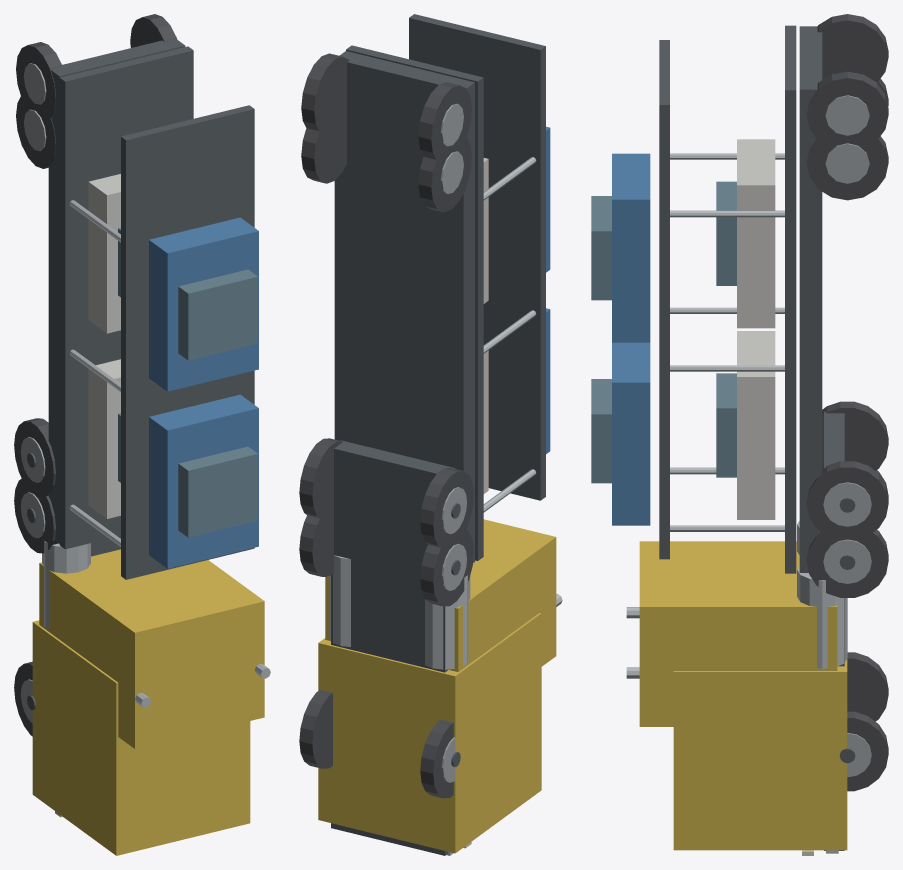
File: semi_car_carrier.glb
3 views of the same model, side by side, from view 1: azimuth 30°, elevation 25°; view 2: azimuth 150°, elevation 25°; view 3: azimuth 270°, elevation 25° (orthographic). The views are drawn at different scales.
Parts seen in each view (by area): view 1: 0007_Sleeper_pod, 0001_Tractor_cab, 0032_Carrier_upper, 0031_Carrier_lower, 0045_Car_cargo_body, 0043_Car_cargo_body, 0046_Car_cargo_glass, 0044_Car_cargo_glass, 0030_Trailer_chassis, 0041_Car_cargo_body, 0039_Car_cargo_body, 0051_Trailer_tire (+10 smaller); view 2: 0030_Trailer_chassis, 0001_Tractor_cab, 0032_Carrier_upper, 0000_Tractor_frame, 0007_Sleeper_pod, 0031_Carrier_lower, 0053_Trailer_tire, 0049_Trailer_tire, 0024_Wheel_tire, 0008_Fuel_tank, 0051_Trailer_tire, 0027_Wheel_tire (+14 smaller); view 3: 0001_Tractor_cab, 0007_Sleeper_pod, 0030_Trailer_chassis, 0045_Car_cargo_body, 0041_Car_cargo_body, 0043_Car_cargo_body, 0039_Car_cargo_body, 0031_Carrier_lower, 0032_Carrier_upper, 0051_Trailer_tire, 0049_Trailer_tire, 0021_Wheel_tire (+19 smaller).
Boxes of the visible parts, x1,y1,x2,y2 form: 0007_Sleeper_pod: [39, 549, 264, 748]; 0001_Tractor_cab: [32, 620, 250, 855]; 0032_Carrier_upper: [121, 105, 254, 579]; 0031_Carrier_lower: [59, 46, 193, 549]; 0045_Car_cargo_body: [149, 217, 258, 391]; 0043_Car_cargo_body: [149, 394, 258, 568]; 0046_Car_cargo_glass: [178, 269, 257, 360]; 0044_Car_cargo_glass: [178, 446, 257, 537]; 0030_Trailer_chassis: [48, 39, 185, 543]; 0041_Car_cargo_body: [88, 174, 120, 333]; 0039_Car_cargo_body: [88, 359, 120, 518]; 0051_Trailer_tire: [16, 42, 62, 122]; 0030_Trailer_chassis: [334, 51, 474, 562]; 0001_Tractor_cab: [318, 613, 541, 853]; 0032_Carrier_upper: [409, 14, 545, 500]; 0000_Tractor_frame: [331, 440, 455, 855]; 0007_Sleeper_pod: [325, 519, 556, 671]; 0031_Carrier_lower: [346, 45, 483, 560]; 0053_Trailer_tire: [301, 53, 349, 135]; 0049_Trailer_tire: [301, 104, 346, 183]; 0024_Wheel_tire: [420, 468, 473, 549]; 0008_Fuel_tank: [425, 575, 470, 669]; 0051_Trailer_tire: [418, 82, 471, 164]; 0027_Wheel_tire: [299, 438, 342, 519]; 0001_Tractor_cab: [673, 659, 847, 850]; 0007_Sleeper_pod: [639, 541, 837, 726]; 0030_Trailer_chassis: [799, 26, 822, 572]; 0045_Car_cargo_body: [612, 153, 650, 342]; 0041_Car_cargo_body: [737, 139, 775, 328]; 0043_Car_cargo_body: [612, 342, 650, 525]; 0039_Car_cargo_body: [737, 331, 775, 519]; 0031_Carrier_lower: [785, 25, 796, 573]; 0032_Carrier_upper: [659, 40, 669, 559]; 0051_Trailer_tire: [817, 14, 888, 82]; 0049_Trailer_tire: [806, 129, 888, 200]; 0021_Wheel_tire: [806, 525, 888, 597].
Size of the model in its own units: 2.59 by 13.63 by 4.71.
